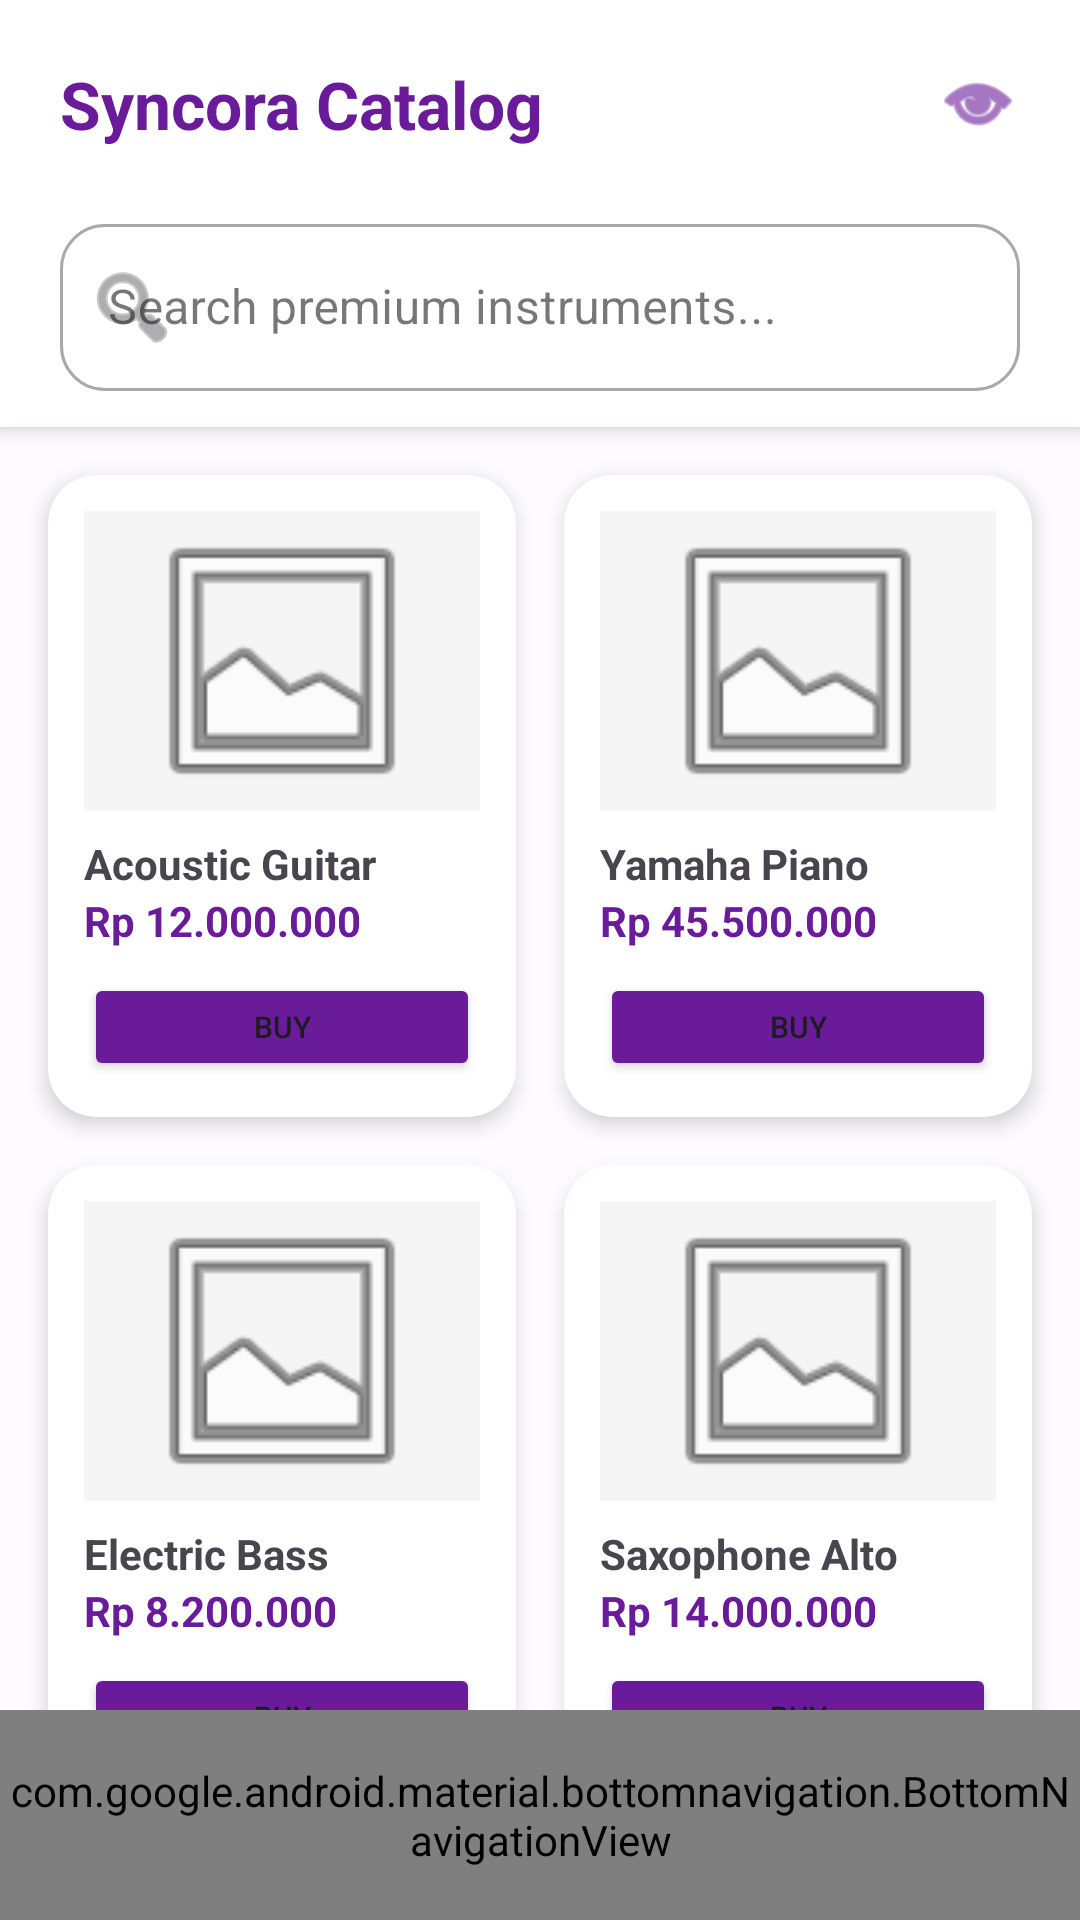

Screen size 1080px x 1920px. Icon name, then its box in pixels as {"x1": x1, "y1": y1, "x2": x2, "y2": y2}:
view: {"x1": 944, "y1": 83, "x2": 1012, "y2": 126}
